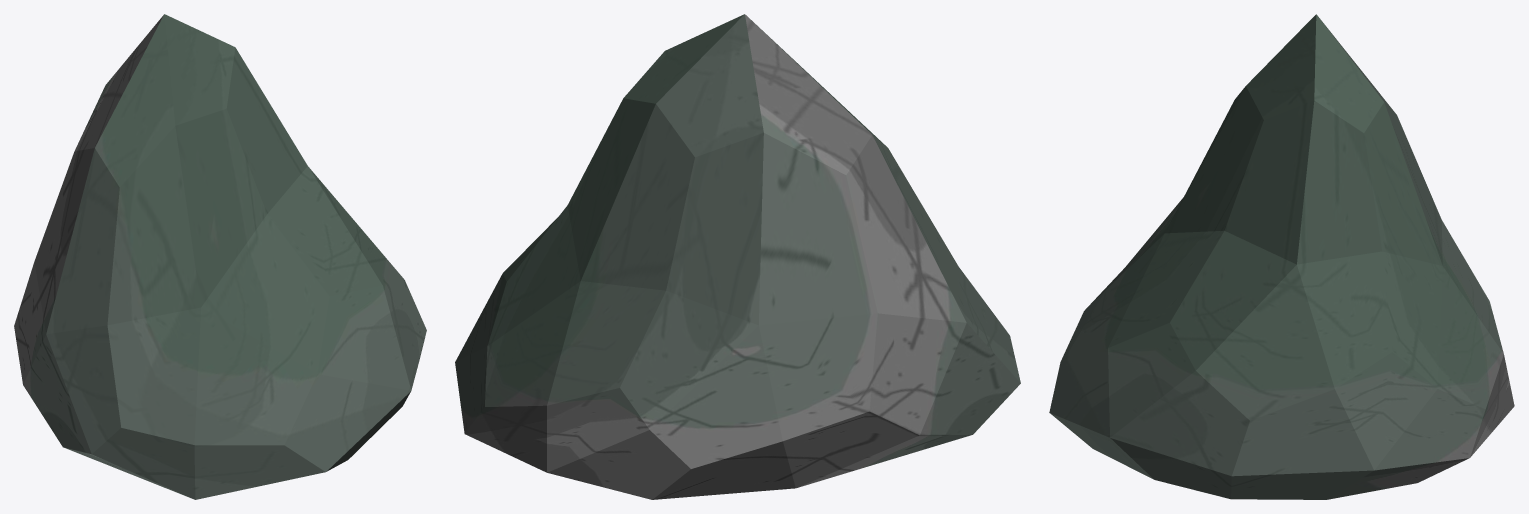
Rendered from Rock 2-2.fbx.
The picture shows the model from 3 angles, left to right: view 1: azimuth 30°, elevation 25°; view 2: azimuth 150°, elevation 25°; view 3: azimuth 270°, elevation 25°; orthographic projection. The views are drawn at different scales.
Visible parts, largest first — view 1: Icosphere; view 2: Icosphere; view 3: Icosphere.
Part boxes in pixels (x1=…): Icosphere: x1=14, y1=14, x2=426, y2=499; Icosphere: x1=455, y1=14, x2=1020, y2=499; Icosphere: x1=1049, y1=14, x2=1514, y2=499.
Size of the model in its own units: 251 by 252 by 260.
